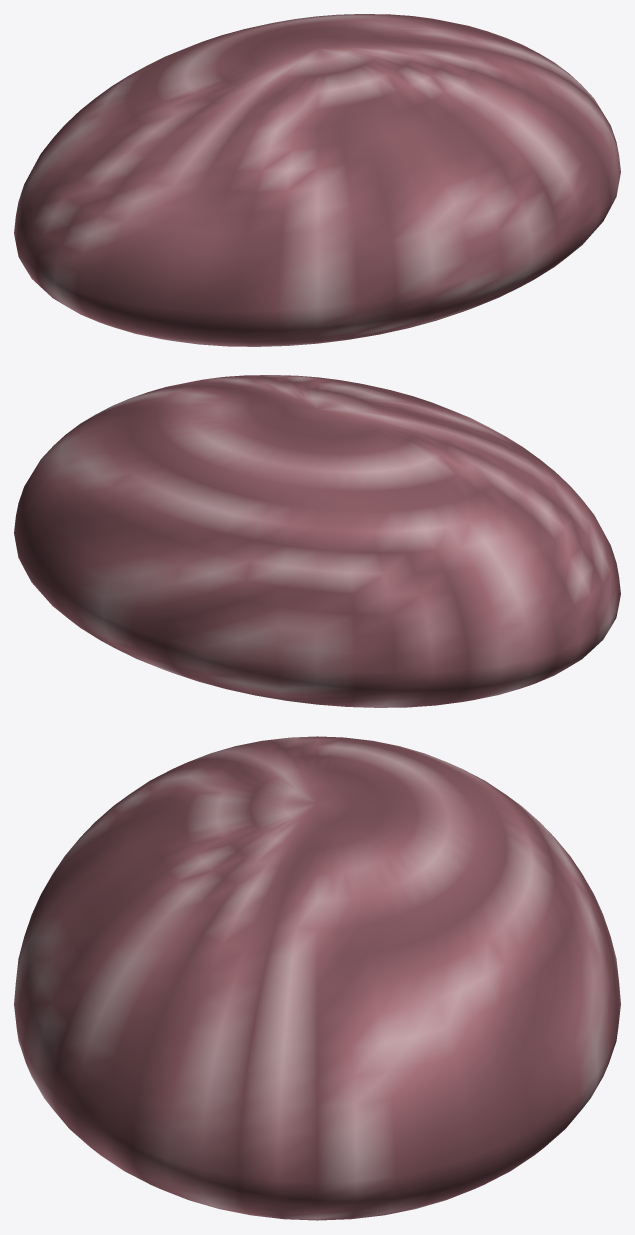
File: jewelry.glb
3 renders of one model, top to bottom at view 1: azimuth 30°, elevation 25°; view 2: azimuth 150°, elevation 25°; view 3: azimuth 270°, elevation 25°, orthographic. The views are drawn at different scales.
Visible parts, largest first — view 1: rhodochrosite; view 2: rhodochrosite; view 3: rhodochrosite.
Boxes of the visible parts, <box> form: rhodochrosite: <box>14,14,620,346</box>; rhodochrosite: <box>14,375,620,707</box>; rhodochrosite: <box>14,736,620,1220</box>.
Size of the model in its own units: 2.36 by 1 by 1.7.
